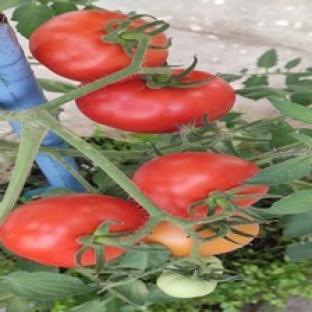Tomato: (0, 194, 147, 267), (77, 70, 235, 133), (133, 152, 267, 218), (30, 10, 132, 80), (198, 223, 259, 257), (156, 271, 217, 298)
